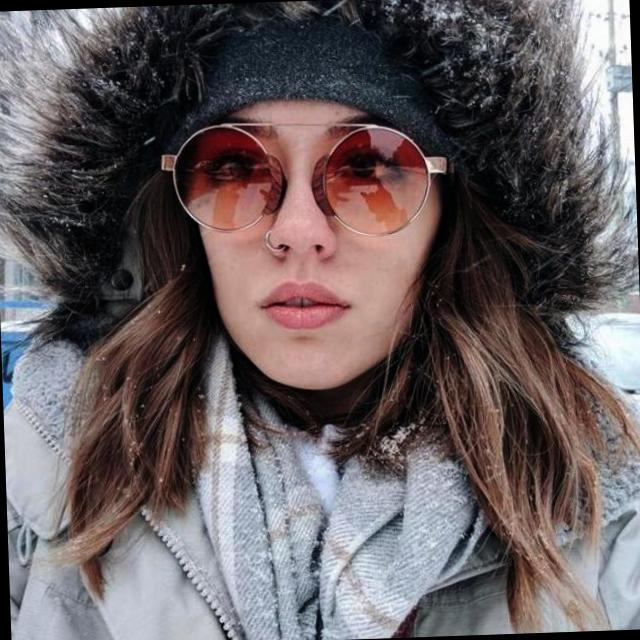glasses: (159, 116, 459, 245)
